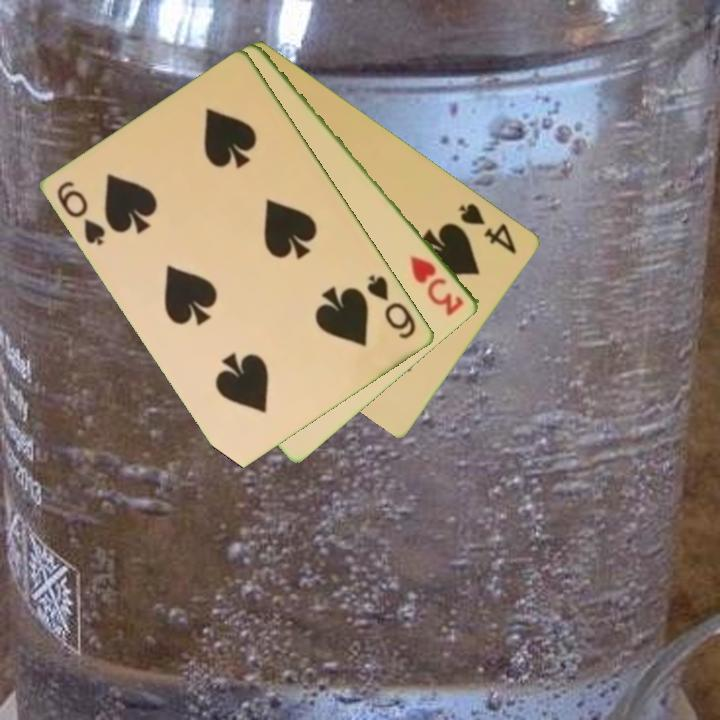3h: (407, 252, 468, 319)
4s: (455, 199, 520, 257)
6s: (363, 271, 420, 342), (53, 177, 109, 249)
